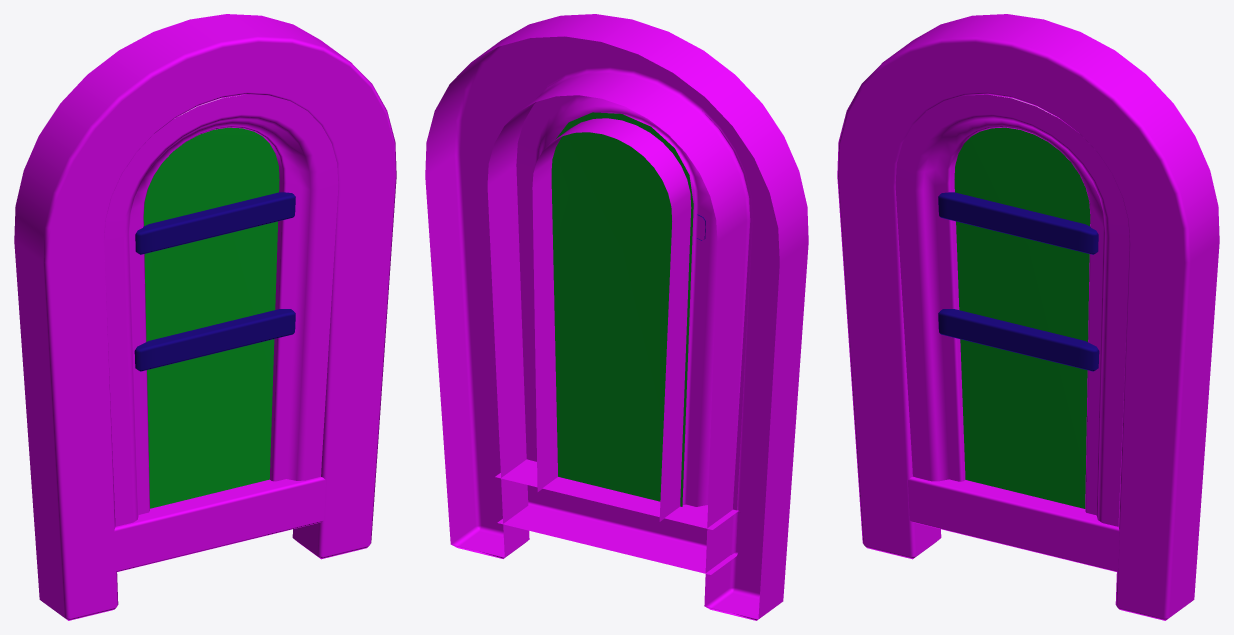
File: Fenetre_Simple_01_4x4x002.FBX
The picture shows the model from 3 angles, left to right: view 1: azimuth 30°, elevation 25°; view 2: azimuth 150°, elevation 25°; view 3: azimuth 330°, elevation 25°; orthographic projection.
Parts seen in each view (by area): view 1: Fenetre_Simple_01_4x4x002; view 2: Fenetre_Simple_01_4x4x002; view 3: Fenetre_Simple_01_4x4x002.
Part boxes in pixels (bbox=[...]): Fenetre_Simple_01_4x4x002: bbox=[14, 14, 396, 620]; Fenetre_Simple_01_4x4x002: bbox=[425, 14, 808, 620]; Fenetre_Simple_01_4x4x002: bbox=[837, 14, 1219, 620].
Bounding box in the file's own units: 133 × 196 × 22.99.
